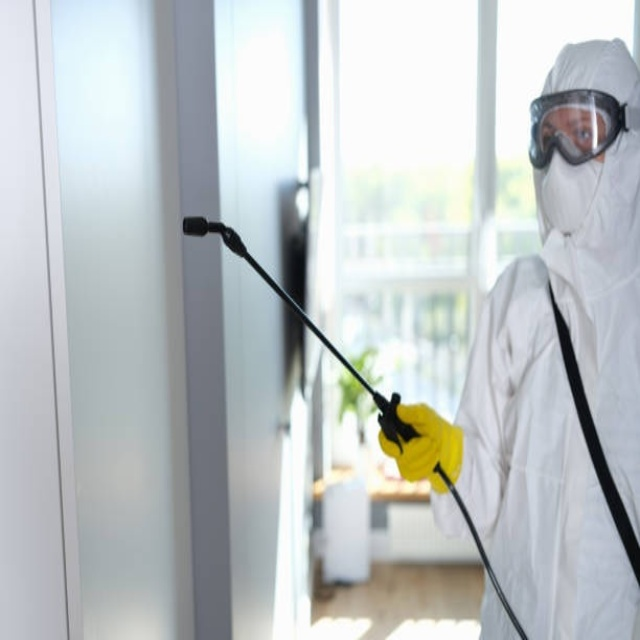Gafas: (526, 89, 632, 170)
Guantes: (379, 399, 464, 493)
Mascara: (535, 135, 614, 240)
